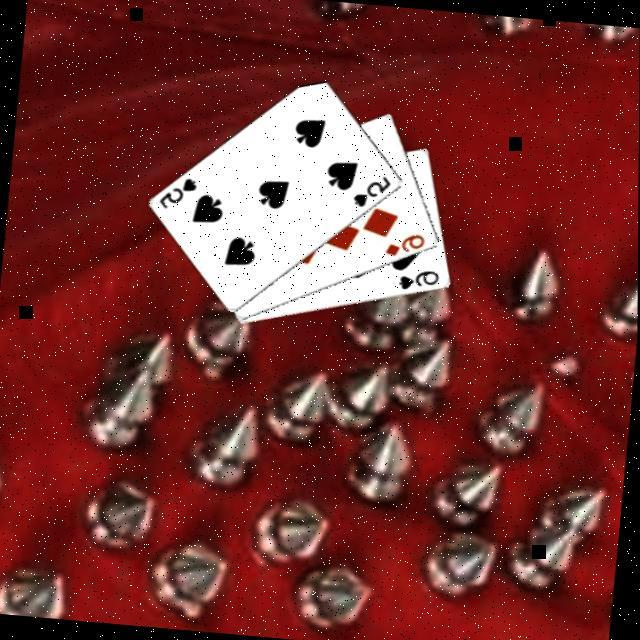5S: (352, 171, 396, 213), (158, 173, 202, 214)
9D: (384, 229, 429, 263)
9S: (397, 266, 445, 296)
